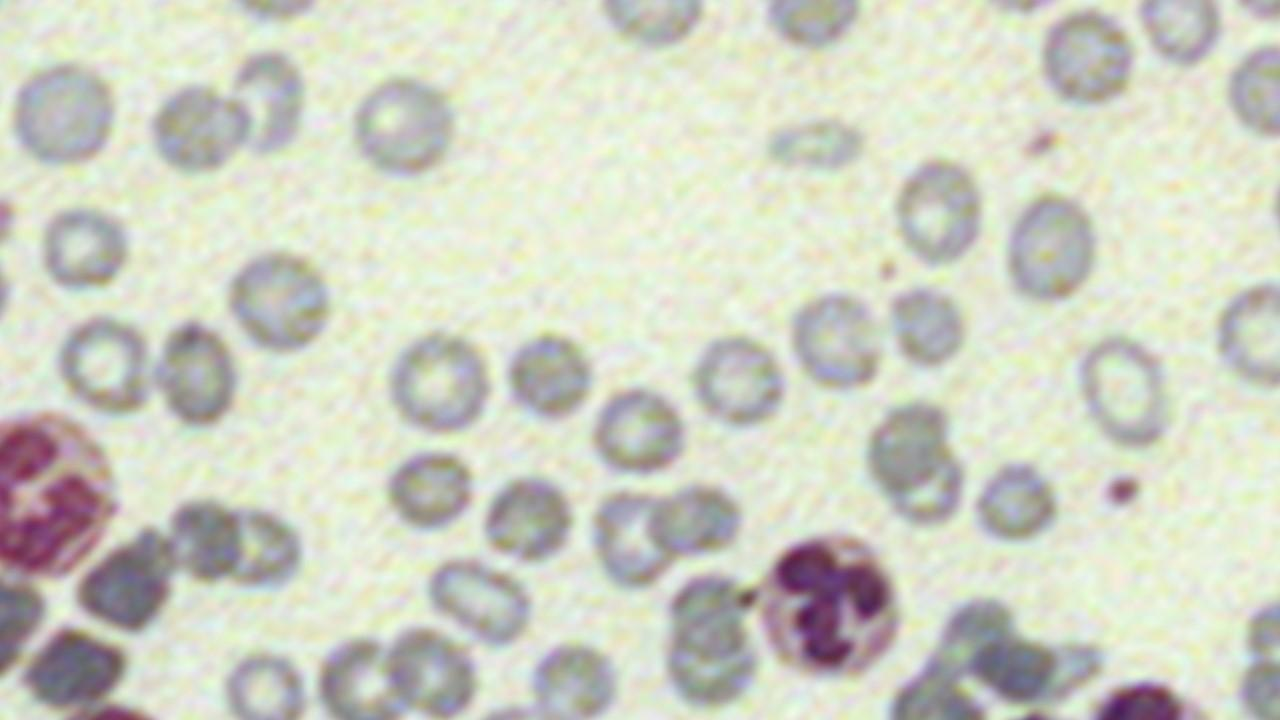RBC: (382, 326, 494, 439), (888, 154, 989, 272), (141, 74, 252, 176), (688, 328, 792, 432), (55, 312, 155, 418), (222, 42, 310, 159), (587, 382, 691, 480), (379, 621, 482, 717), (588, 483, 680, 590), (858, 397, 956, 496), (380, 444, 479, 536), (1211, 268, 1279, 398), (219, 644, 312, 719)
